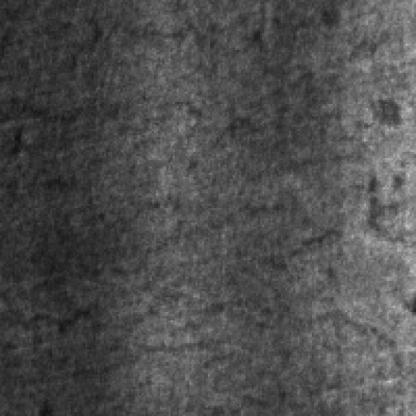crazing: (73, 56, 374, 221), (0, 214, 231, 377)
